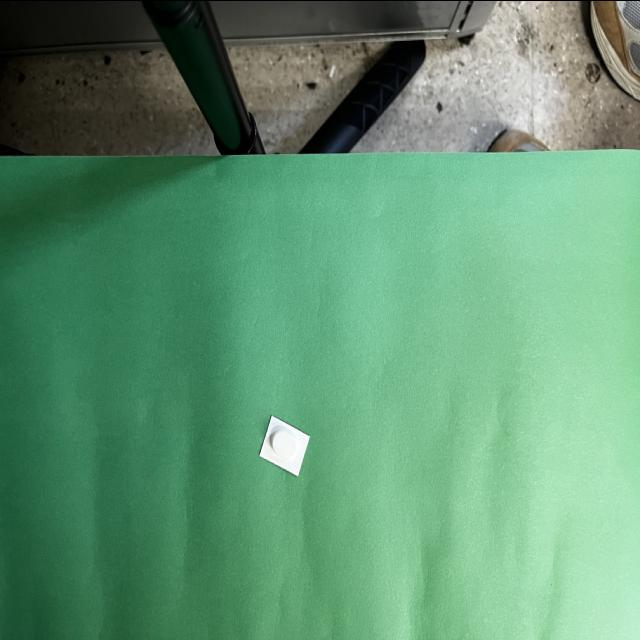Other Objects: (270, 425, 298, 459)
